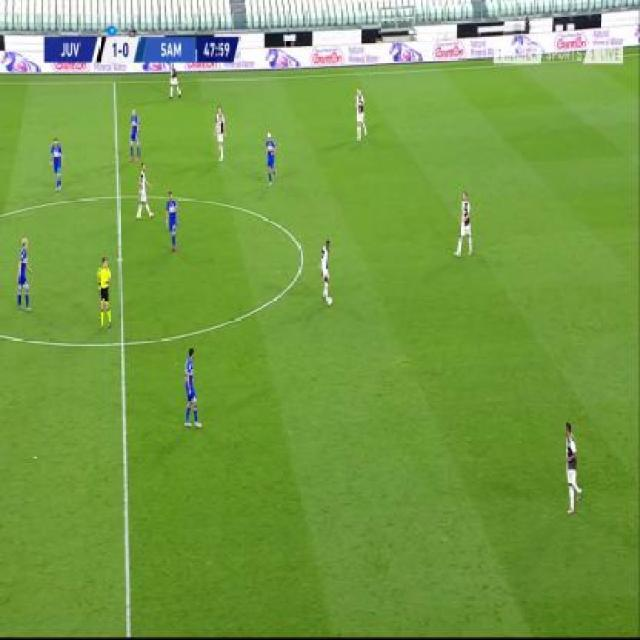ball: (326, 297, 332, 306)
player: (562, 416, 584, 513), (183, 345, 202, 430), (15, 236, 35, 313), (95, 253, 114, 330), (455, 188, 475, 259), (135, 161, 155, 221), (316, 236, 333, 305), (166, 190, 180, 253), (48, 137, 64, 190), (213, 105, 227, 164), (264, 130, 278, 187), (354, 86, 368, 139), (128, 106, 141, 163), (168, 60, 181, 100)
